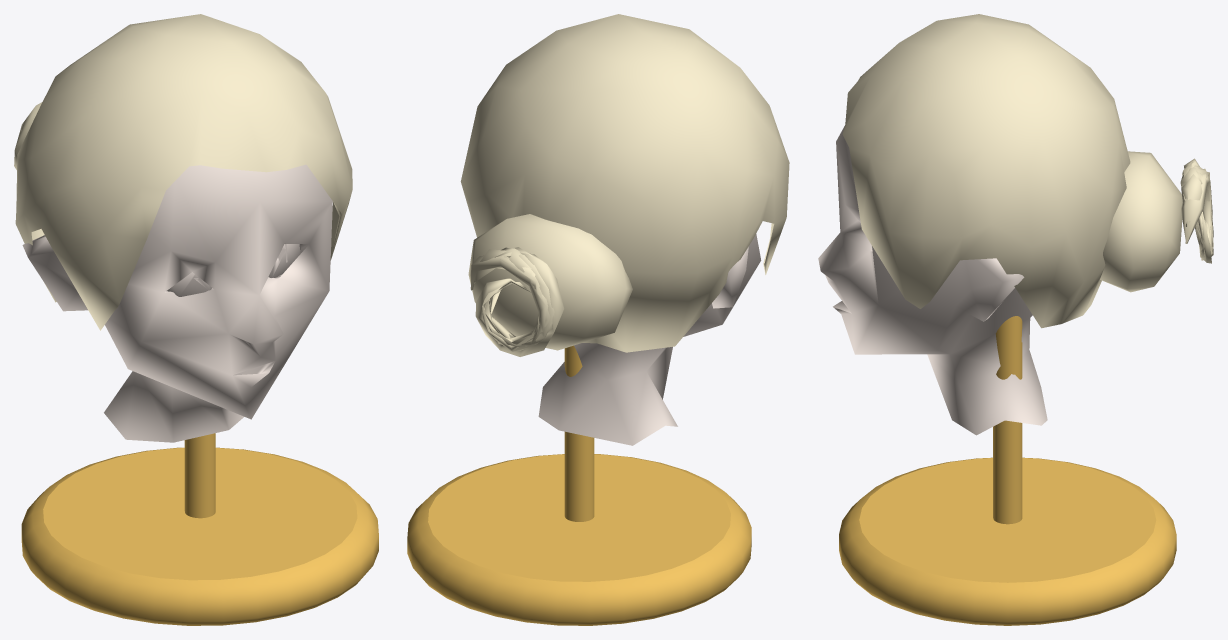
The model's file is rain.hair.platinum-long.lod1.glb.
The picture shows the model from 3 angles, left to right: view 1: azimuth 30°, elevation 25°; view 2: azimuth 150°, elevation 25°; view 3: azimuth 270°, elevation 25°; orthographic projection. The views are drawn at different scales.
Visible parts, largest first — view 1: Hairstyles.platinum-long.Crown, stand_base, GEO-rain-head, stand_stem, GEO-rain-eyes; view 2: Hairstyles.platinum-long.Crown, stand_base, GEO-rain-head, Hairstyles.platinum-long.Bun core, stand_stem, Hairstyles.platinum-long.Bun twist 4, Hairstyles.platinum-long.Bun twist 0, Hairstyles.platinum-long.Bun twist 3, Hairstyles.platinum-long.Bun twist 2, Hairstyles.platinum-long.Bun twist 1; view 3: Hairstyles.platinum-long.Crown, stand_base, GEO-rain-head, Hairstyles.platinum-long.Bun core, stand_stem, Hairstyles.platinum-long.Bun twist 0, Hairstyles.platinum-long.Bun twist 1.
Boxes of the visible parts, x1,y1,x2,y2 form: Hairstyles.platinum-long.Crown: (15,14,352,330); stand_base: (21,447,378,625); GEO-rain-head: (22,164,332,442); stand_stem: (184,433,215,518); GEO-rain-eyes: (166,244,300,296); Hairstyles.platinum-long.Crown: (460,14,789,352); stand_base: (407,454,751,625); GEO-rain-head: (538,234,761,445); Hairstyles.platinum-long.Bun core: (468,214,632,350); stand_stem: (564,345,594,521); Hairstyles.platinum-long.Bun twist 4: (475,252,564,356); Hairstyles.platinum-long.Bun twist 0: (470,255,548,341); Hairstyles.platinum-long.Bun twist 3: (482,247,555,351); Hairstyles.platinum-long.Bun twist 2: (482,247,554,346); Hairstyles.platinum-long.Bun twist 1: (480,249,550,346); Hairstyles.platinum-long.Crown: (842,14,1130,328); stand_base: (839,457,1176,625); GEO-rain-head: (818,126,1047,435); Hairstyles.platinum-long.Bun core: (1100,151,1182,292); stand_stem: (993,316,1022,524); Hairstyles.platinum-long.Bun twist 0: (1181,168,1212,248); Hairstyles.platinum-long.Bun twist 1: (1181,170,1213,255).
Bounding box in the file's own units: 0.4402 × 0.6855 × 0.4753.
